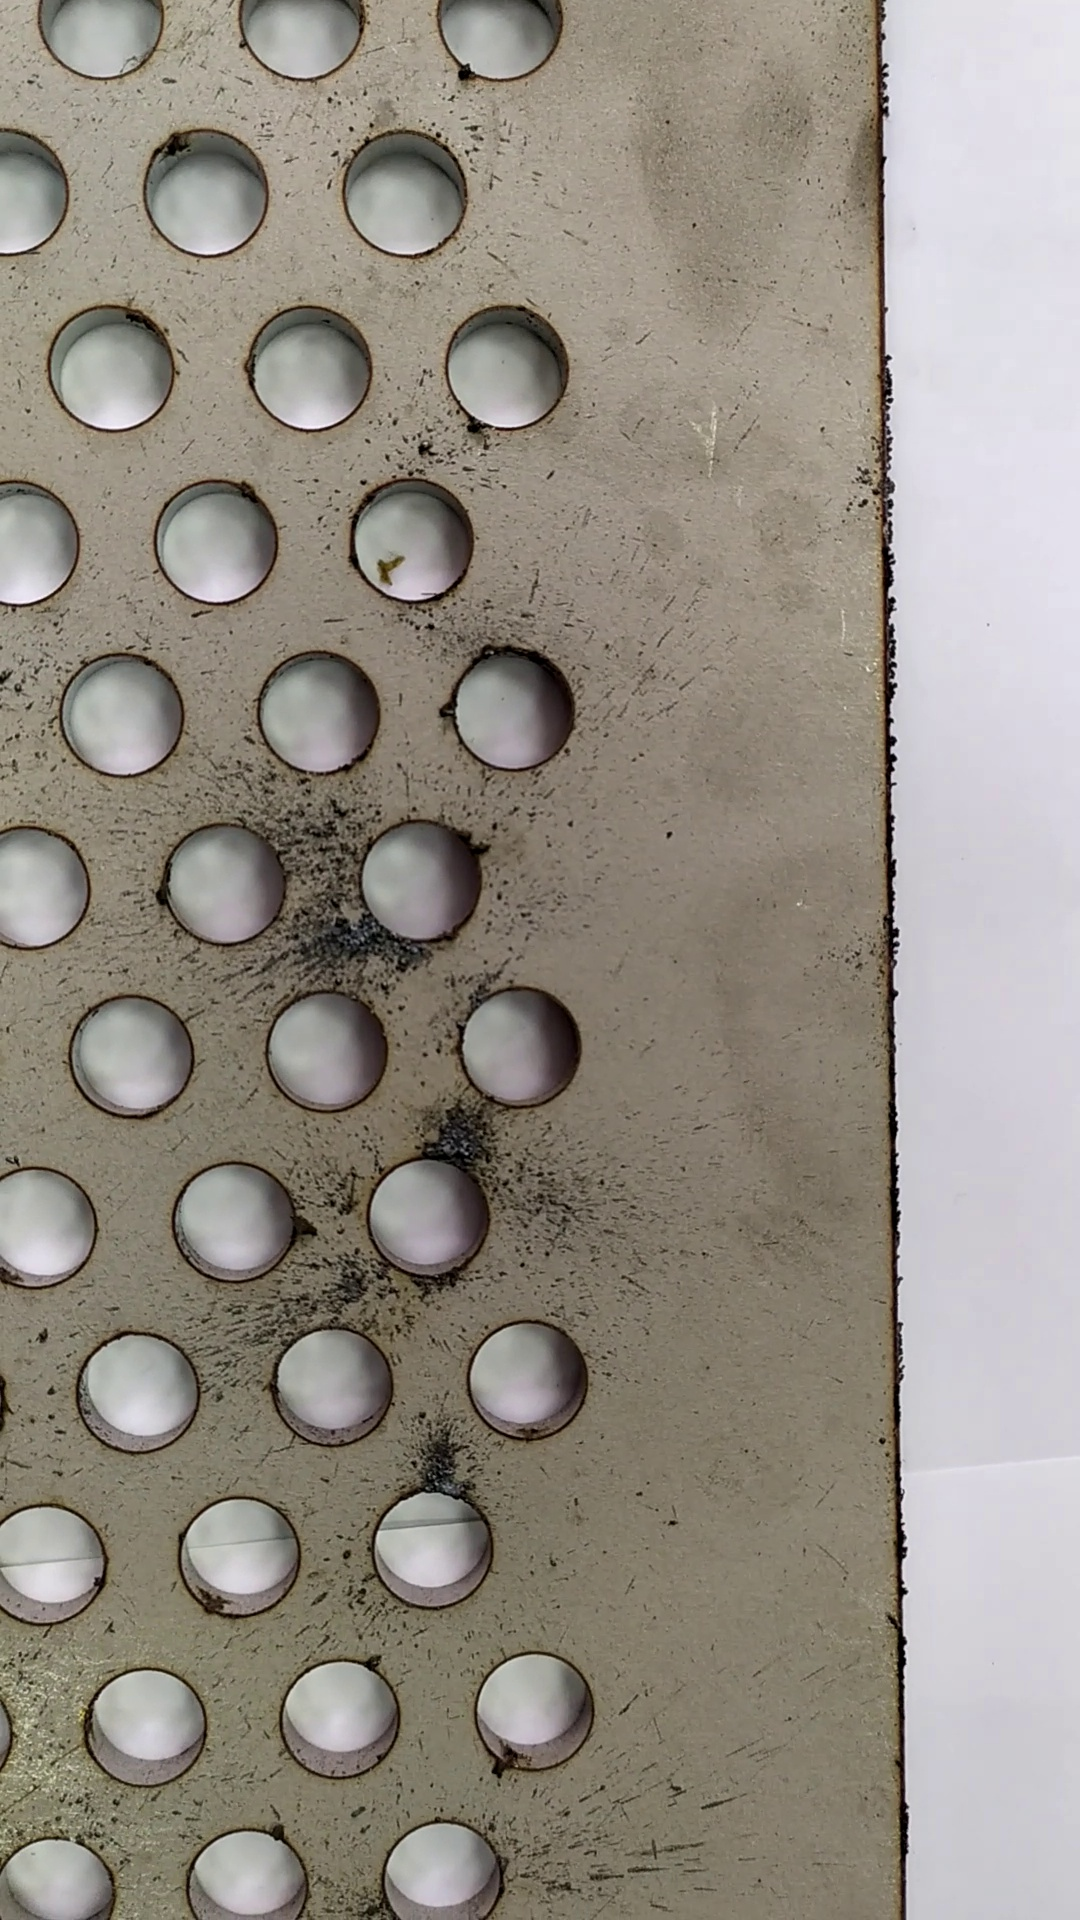Hole: (328, 119, 485, 268), (430, 636, 591, 779), (430, 295, 595, 434), (38, 644, 196, 787), (36, 295, 191, 440), (229, 293, 386, 436), (447, 1309, 612, 1444), (272, 1648, 419, 1797), (53, 1320, 214, 1456), (67, 1652, 224, 1791), (347, 1149, 508, 1283), (128, 120, 280, 262), (359, 1477, 514, 1615), (164, 1491, 320, 1629), (463, 1646, 616, 1785), (53, 986, 212, 1120), (343, 811, 495, 949), (451, 973, 593, 1120), (237, 640, 385, 779), (251, 981, 400, 1117), (152, 814, 298, 949), (338, 473, 487, 607), (261, 1320, 402, 1451), (145, 473, 284, 605), (160, 1156, 306, 1280)
